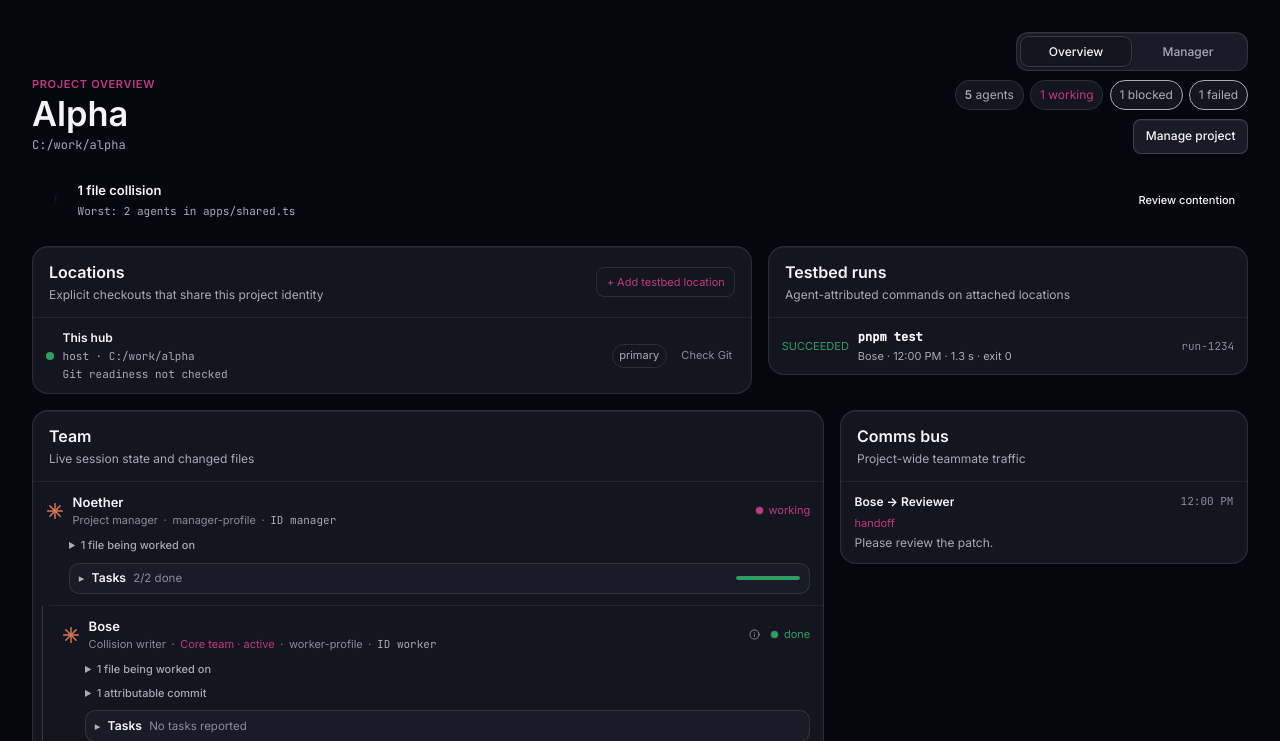
Scenario: ProjectView › shows explicit project locations, attributed runs, and attaches an advertised testbed root
The image size is (1280, 741).
Expected: the text "This hub" is shown, [63, 330, 113, 345]
Expected: the text "pnpm test" is shown, [858, 329, 923, 345]
What coordinates should you click on to do the following:
click the button "+ Add testbed location"
I would click on:
 (666, 282)
Its box is [596, 267, 735, 297].
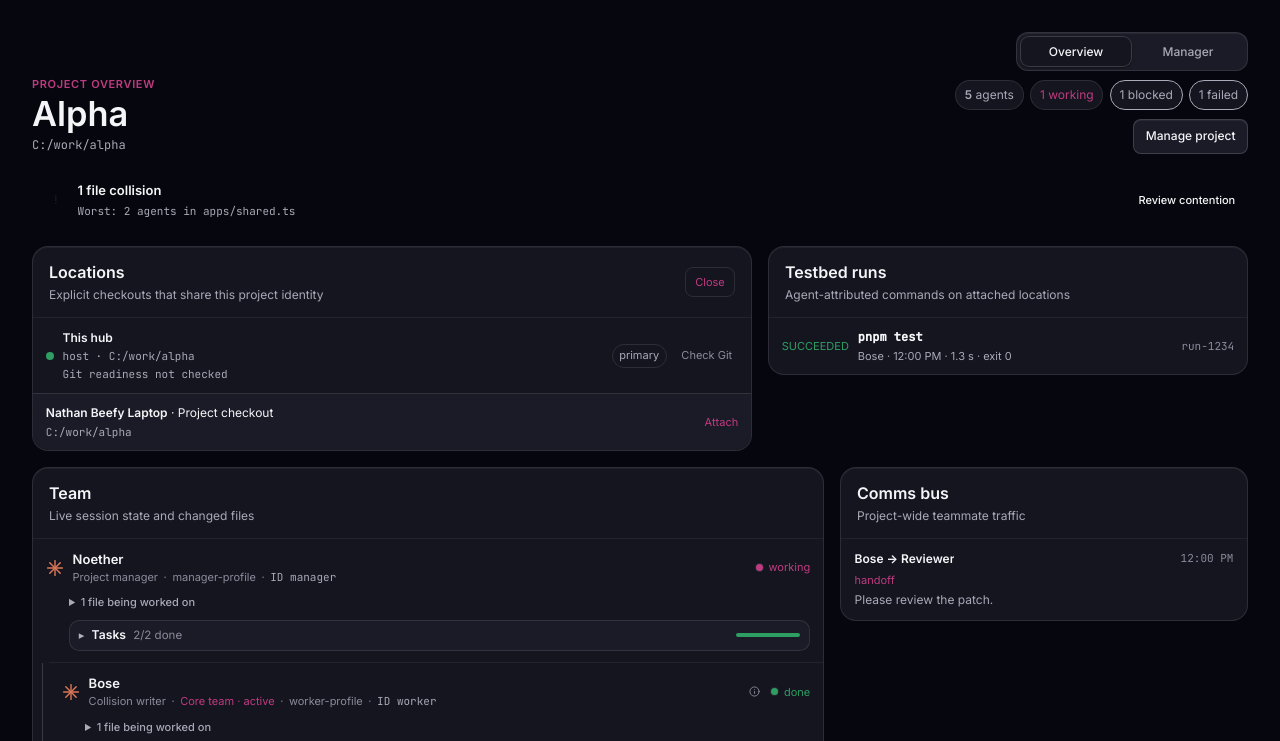
Expected: the text "Nathan Beefy Laptop" is shown, [46, 405, 168, 420]
What coordinates should you click on to do the following:
click the button "Nathan Beefy Laptop · Project checkout C:/work/alpha Attach"
I would click on:
 (107, 412)
Its box is [33, 394, 751, 450].
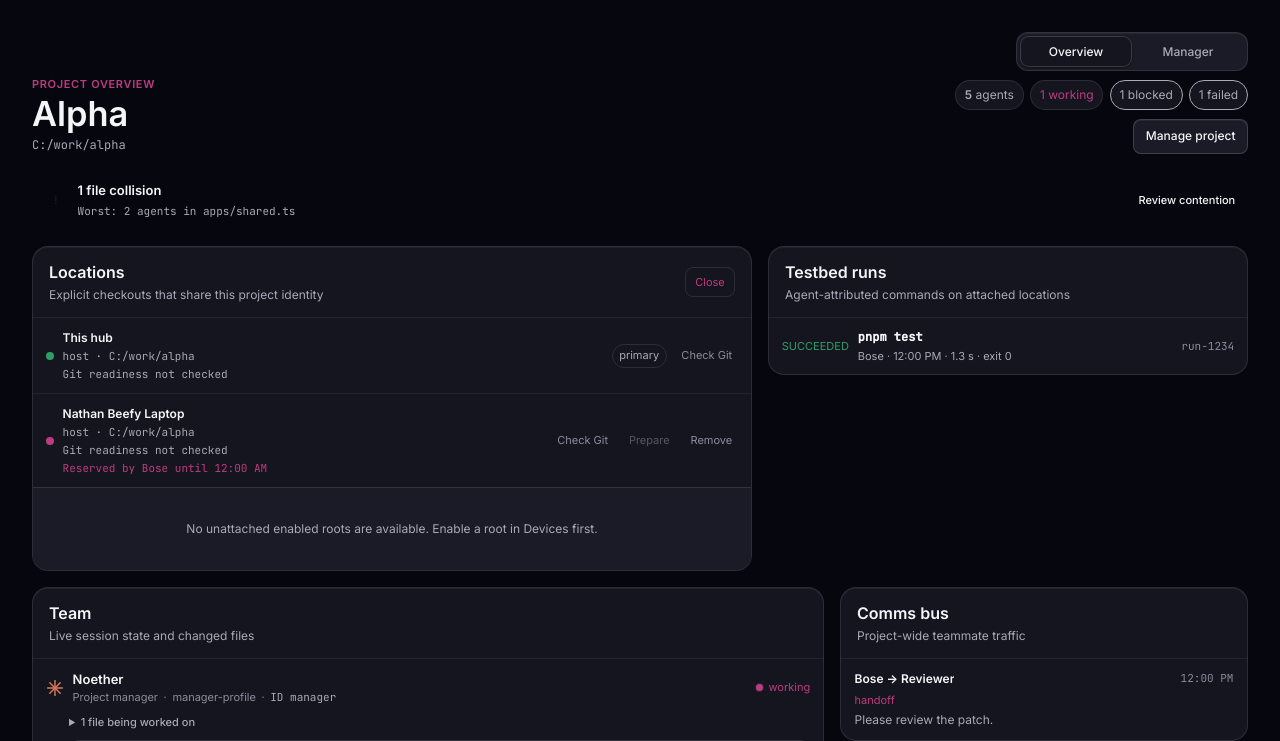
Expected: the text "Nathan Beefy Laptop" is shown, [63, 406, 184, 421]
Expected: the text "Reserved by Bose until 12:00 AM" is shown, [63, 461, 267, 475]
What coordinates should you click on to do the following:
click the button with aria-label "Inspect Git readiness for Nathan Beefy Laptop"
I would click on:
 (583, 441)
Its box is [551, 432, 614, 450].
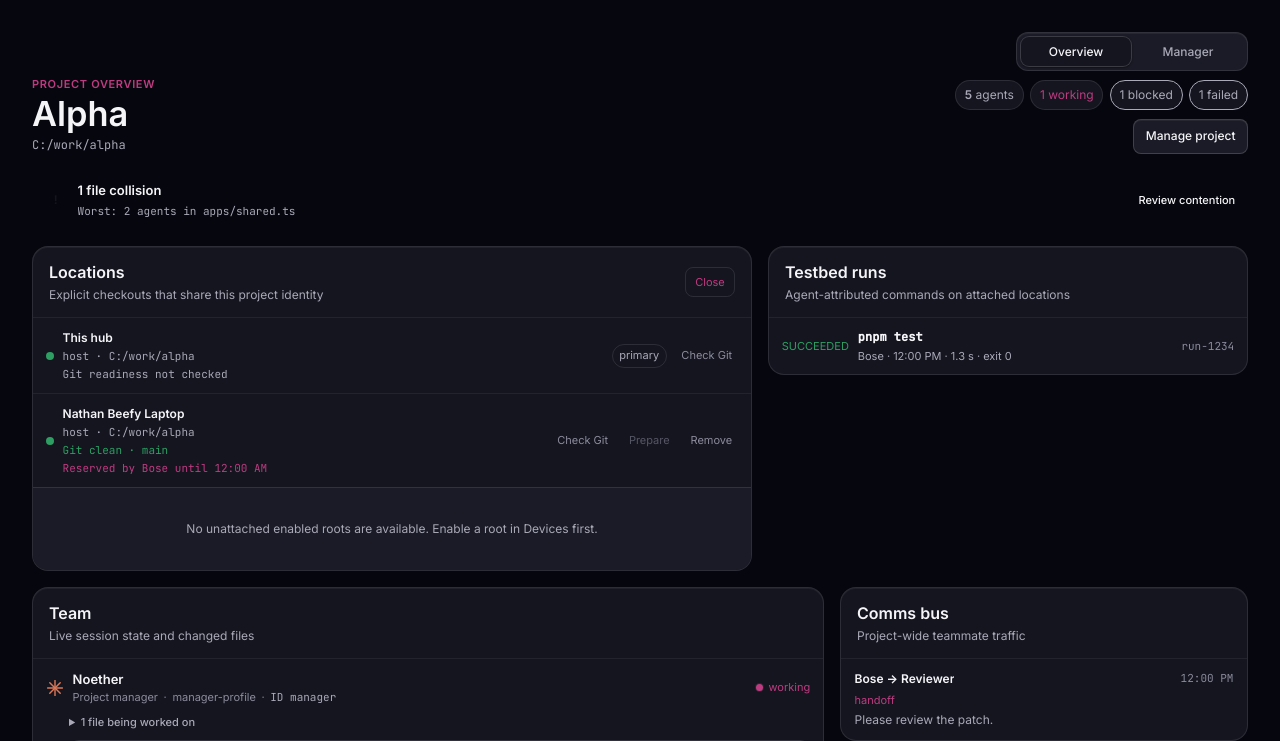
Expected: the text "Git clean · main" is shown, [63, 443, 168, 457]
